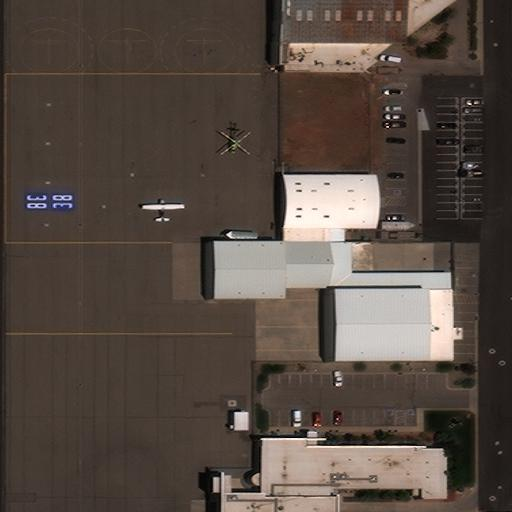Small Civil Transport: (142, 198, 184, 222)
